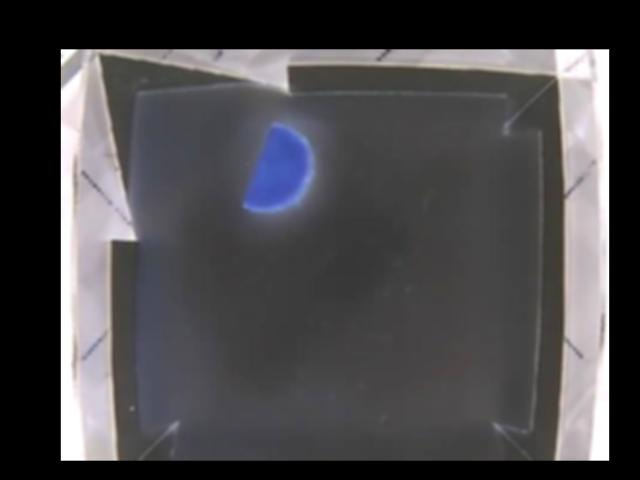Potato: (243, 123, 311, 212)
